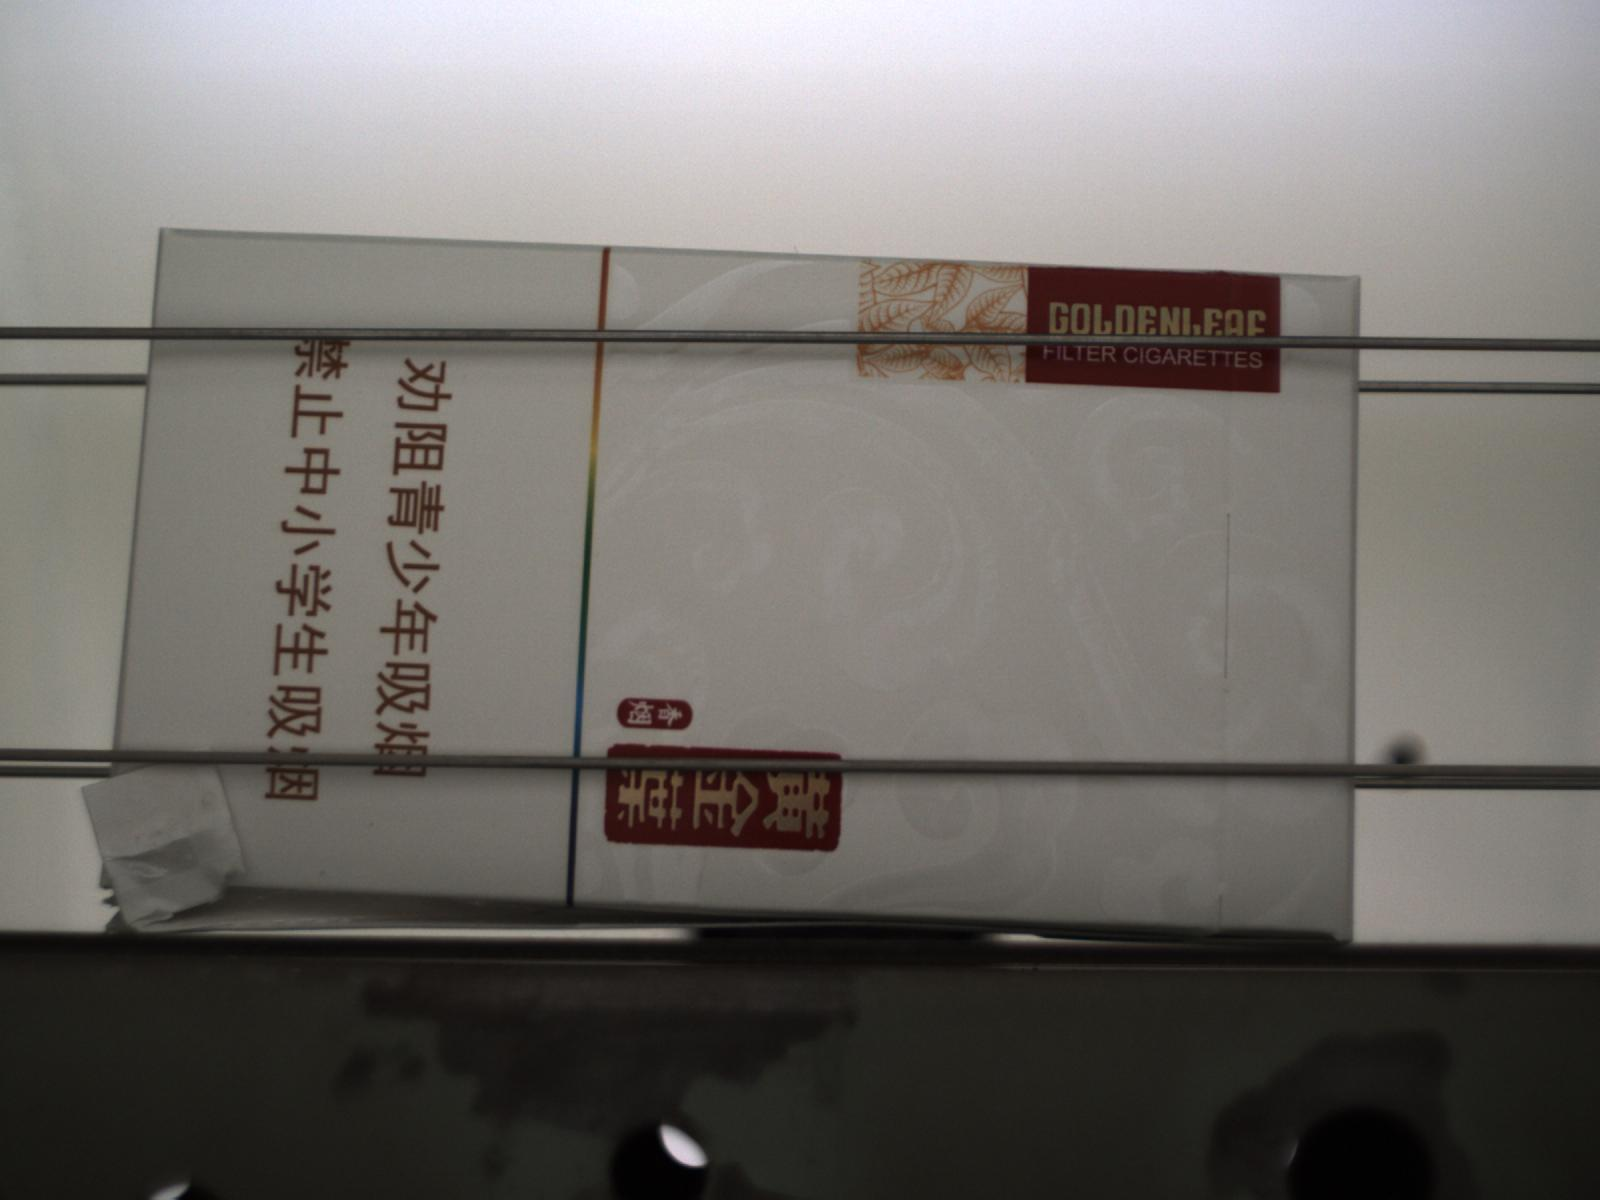boxDamage_back_heavy: (94, 862, 1353, 948)
frame: (76, 758, 256, 921)
